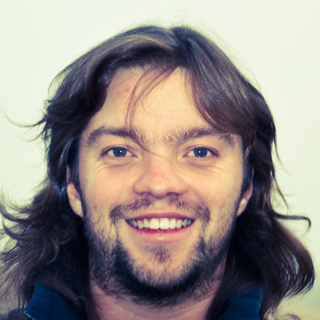eye: (96, 140, 141, 166), (177, 141, 221, 166)
